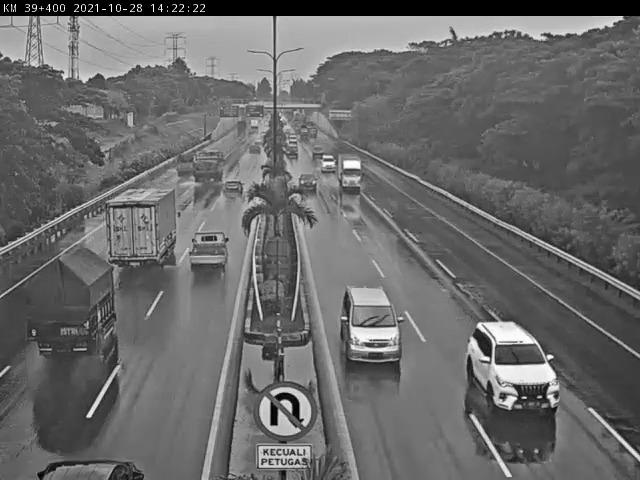big truck: (108, 188, 183, 276)
car: (456, 318, 566, 421), (339, 273, 413, 376), (30, 453, 144, 480), (188, 227, 228, 263), (297, 172, 318, 195), (284, 140, 306, 159), (224, 179, 243, 199), (320, 152, 334, 174), (249, 140, 262, 155)
small truck: (23, 245, 122, 363), (193, 149, 223, 182), (337, 155, 363, 193), (176, 152, 196, 175)
